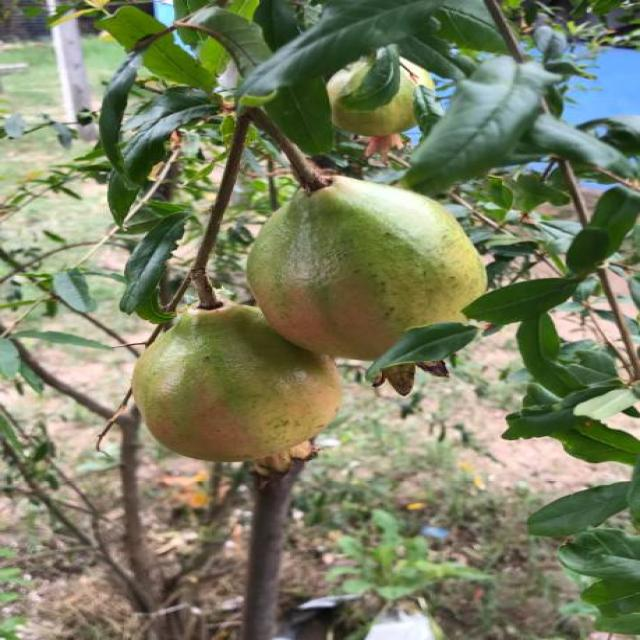Unripe: (248, 169, 487, 394), (129, 300, 341, 476)
